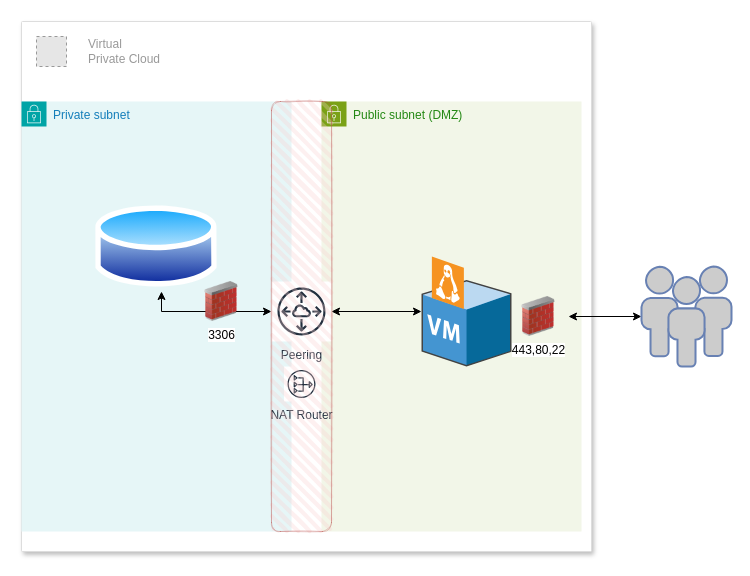
Image size: 750x576. Some labels were removed from this diagram. Grey dashed boxes stand in for pictures. The shapes that lost their labels are listed below. From the top down, each one's centre as x and y in pixels, then its label:
[156,246]: MySQL
[466,311]: Webserver
[686,316]: Clients
